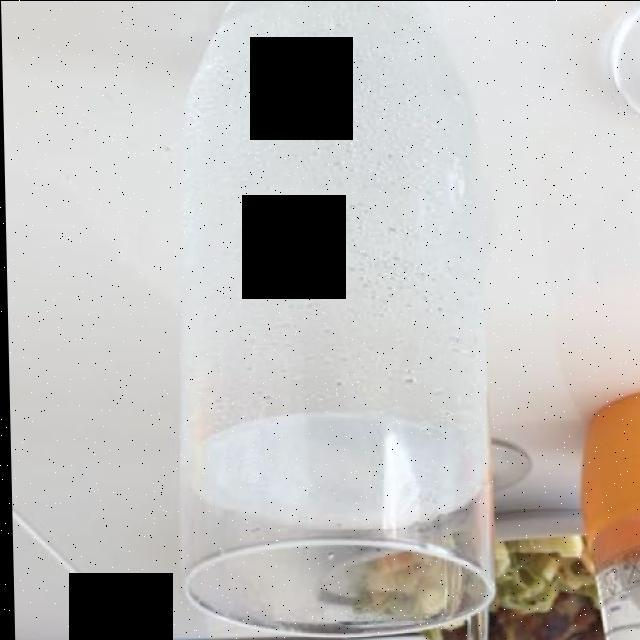water: (175, 27, 490, 519)
